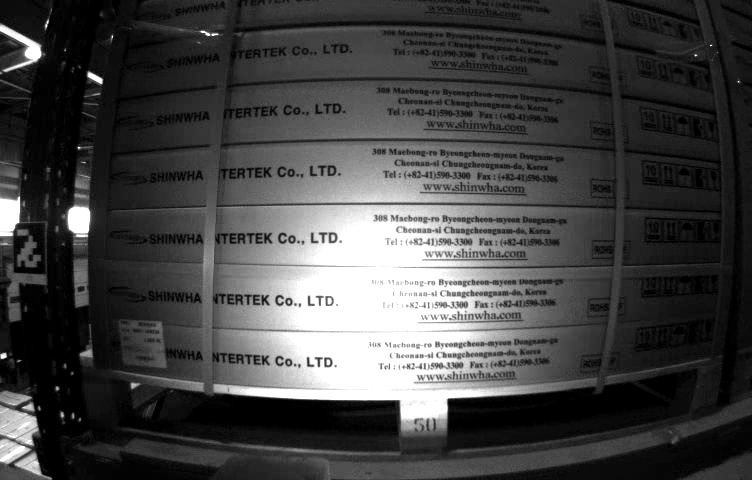True Barcode: (118, 317, 169, 371)
